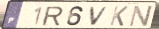1: (33, 6, 43, 26)
6: (66, 5, 84, 27)
K: (108, 5, 130, 27)
N: (127, 4, 155, 28)
R: (40, 6, 64, 27)
V: (89, 6, 110, 27)
